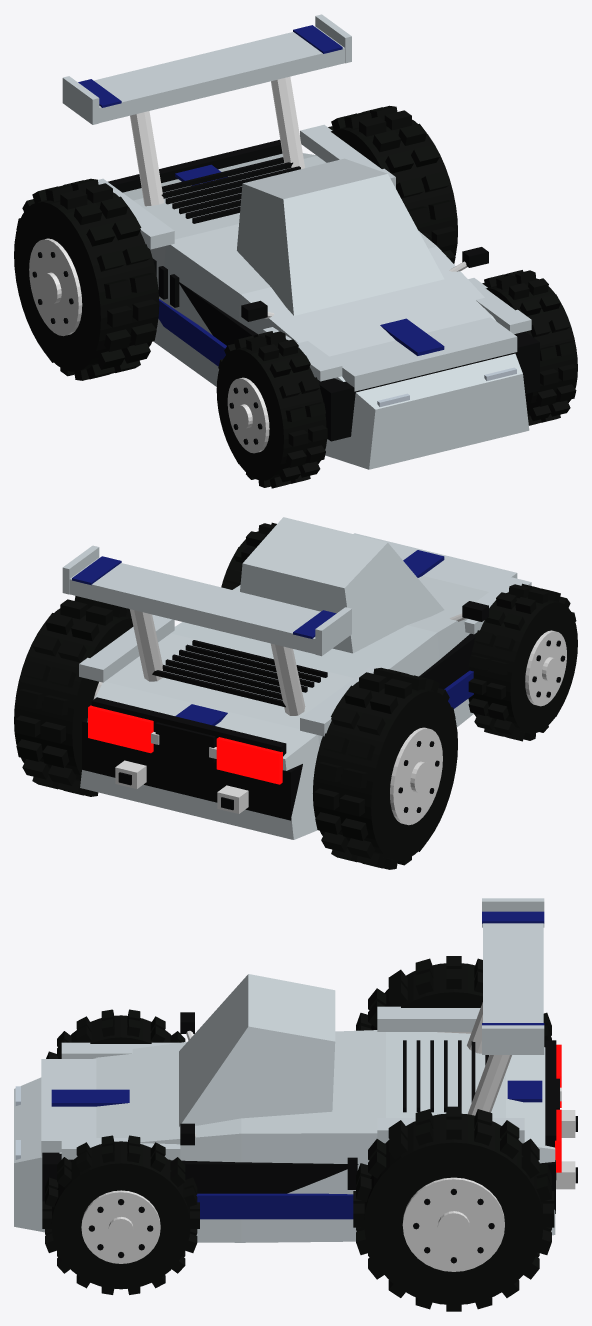
File: enduroCar.glb
3 renders of one model, top to bottom at view 1: azimuth 30°, elevation 25°; view 2: azimuth 150°, elevation 25°; view 3: azimuth 270°, elevation 25°, orthographic. The views are drawn at different scales.
Parts seen in each view (by area): view 1: Carroceria principal em cunha, Cabine - estrutura, Pneu Traseira 3, Aerofólio traseiro, Pneu Dianteira 1, Capô, Chassi inferior, Pneu Traseira 4, Aro Traseira 3, Pneu Dianteira 2, Painel traseiro preto, Aro Dianteira 1 (+14 smaller); view 2: Carroceria principal em cunha, Cabine - estrutura, Pneu Traseira 3, Aerofólio traseiro, Chassi inferior, Pneu Dianteira 1, Pneu Traseira 4, Painel traseiro preto, Aro Traseira 3, Lanterna traseira vermelha única, Capô, Lanterna traseira vermelha única.001 (+41 smaller); view 3: Carroceria principal em cunha, Cabine - estrutura, Pneu Traseira 4, Pneu Dianteira 2, Aro Traseira 4.001, Aerofólio traseiro, Chassi inferior, Faixa lateral azul.001, Capô, Aro Dianteira 2.001, Aba para-lama traseiro, Pneu Traseira 3 (+13 smaller).
Boxes of the visible parts, left/top/right/bottom form: Carroceria principal em cunha: left=123, top=153, right=529, bottom=469; Cabine - estrutura: left=237, top=158, right=444, bottom=315; Pneu Traseira 3: left=14, top=192, right=159, bottom=371; Aerofólio traseiro: left=94, top=26, right=344, bottom=122; Pneu Dianteira 1: left=216, top=339, right=327, bottom=480; Capô: left=329, top=317, right=517, bottom=391; Chassi inferior: left=179, top=282, right=539, bottom=441; Pneu Traseira 4: left=331, top=119, right=457, bottom=255; Aro Traseira 3: left=29, top=238, right=82, bottom=336; Pneu Dianteira 2: left=486, top=278, right=577, bottom=415; Painel traseiro preto: left=108, top=139, right=282, bottom=192; Aro Dianteira 1: left=227, top=377, right=269, bottom=453; Carroceria principal em cunha: left=80, top=576, right=488, bottom=839; Cabine - estrutura: left=240, top=517, right=444, bottom=653; Pneu Traseira 3: left=313, top=681, right=457, bottom=860; Aerofólio traseiro: left=69, top=557, right=320, bottom=653; Chassi inferior: left=82, top=633, right=475, bottom=820; Pneu Dianteira 1: left=468, top=592, right=577, bottom=733; Pneu Traseira 4: left=14, top=608, right=133, bottom=781; Painel traseiro preto: left=91, top=697, right=286, bottom=790; Aro Traseira 3: left=390, top=727, right=442, bottom=825; Lanterna traseira vermelha única: left=216, top=737, right=282, bottom=784; Capô: left=353, top=533, right=517, bottom=591; Lanterna traseira vermelha única.001: left=88, top=705, right=153, bottom=753; Carroceria principal em cunha: left=14, top=1030, right=555, bottom=1242; Cabine - estrutura: left=179, top=974, right=335, bottom=1127; Pneu Traseira 4: left=364, top=1113, right=543, bottom=1304; Pneu Dianteira 2: left=51, top=1141, right=190, bottom=1289; Aro Traseira 4.001: left=402, top=1177, right=504, bottom=1271; Aerofólio traseiro: left=483, top=923, right=543, bottom=1022; Chassi inferior: left=42, top=1152, right=555, bottom=1213; Faixa lateral azul.001: left=196, top=1193, right=353, bottom=1219; Capô: left=41, top=1059, right=96, bottom=1156; Aro Dianteira 2.001: left=81, top=1190, right=160, bottom=1263; Aba para-lama traseiro: left=377, top=1006, right=480, bottom=1031; Pneu Traseira 3: left=370, top=963, right=482, bottom=1030.
Size of what is drawn, in the model's own units: 3.07 by 1.99 by 3.9.
